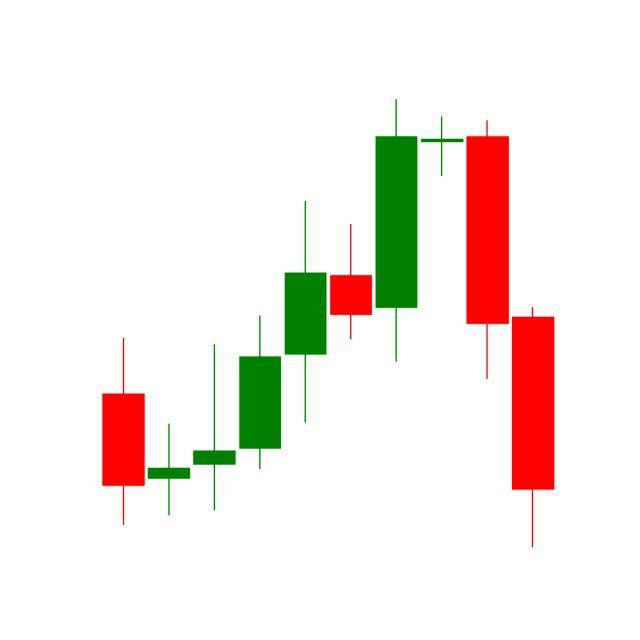Hikkake Pattern: (283, 100, 512, 429)
